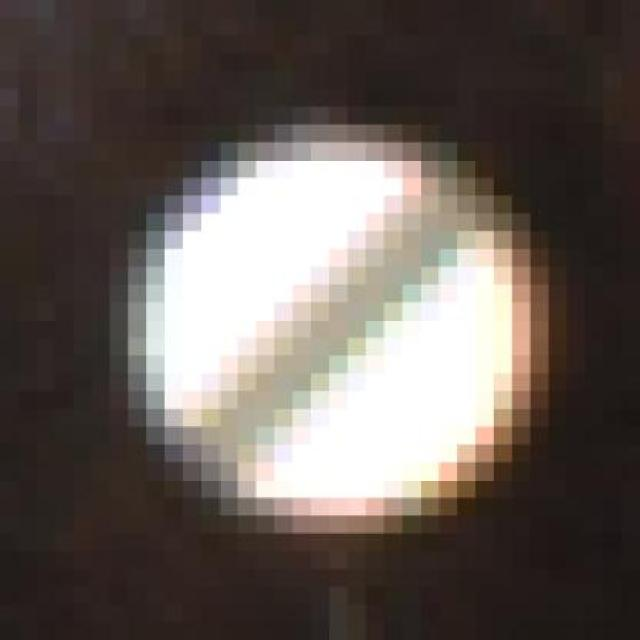End of all speed and passing limits: (128, 124, 568, 551)
